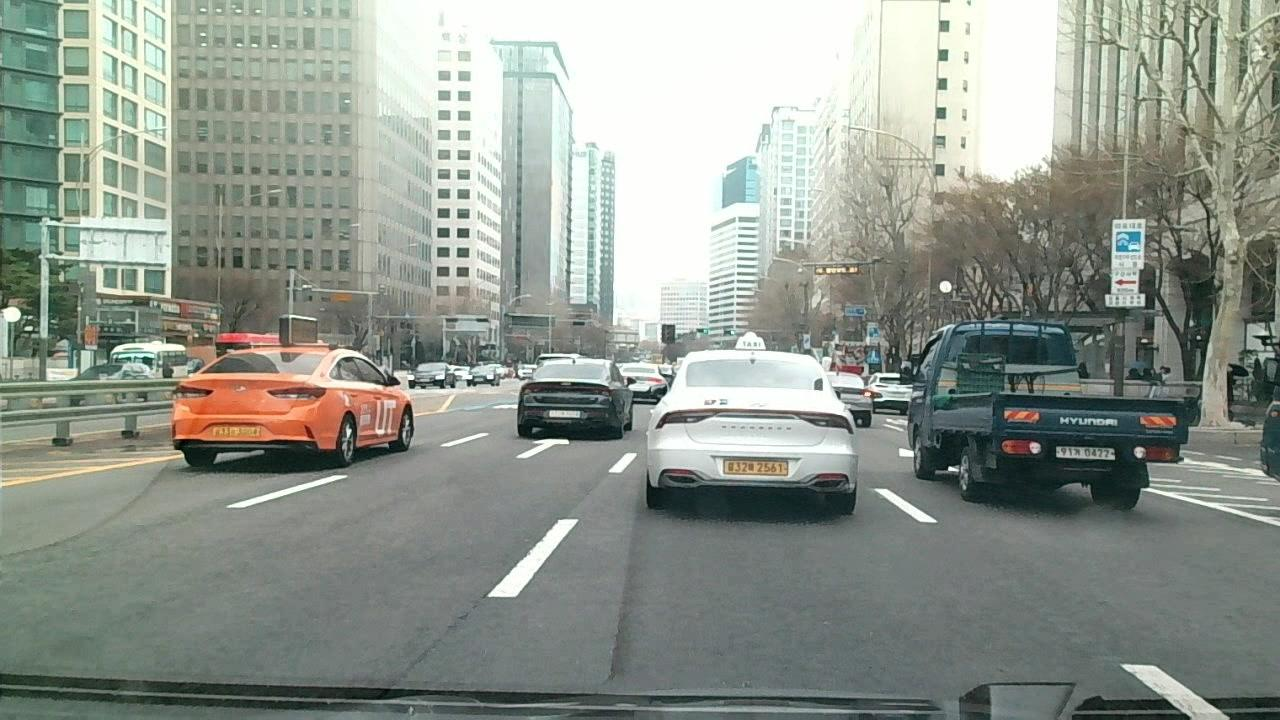vcrack: (368, 591, 489, 700), (599, 571, 638, 688)
